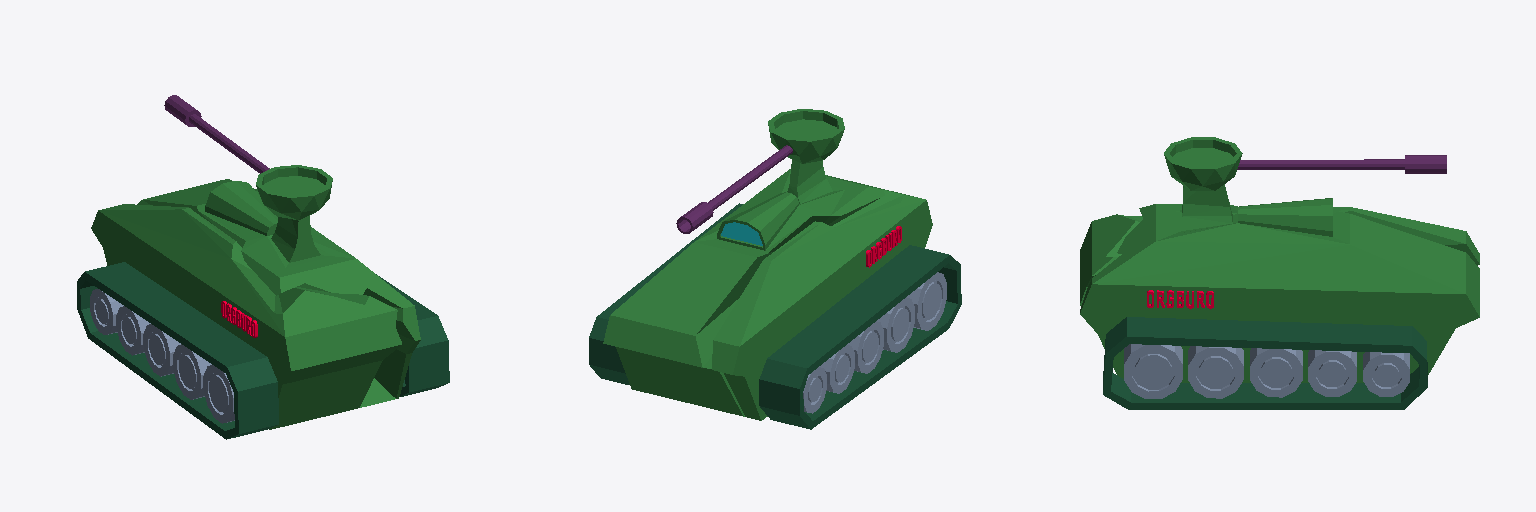
3 renders of one model, left to right at view 1: azimuth 30°, elevation 25°; view 2: azimuth 150°, elevation 25°; view 3: azimuth 270°, elevation 25°, orthographic.
Visible parts, largest first — view 1: tank_01_cracked_Cube.001; view 2: tank_01_cracked_Cube.001; view 3: tank_01_cracked_Cube.001.
Boxes of the visible parts, x1,y1,x2,y2 form: tank_01_cracked_Cube.001: [77, 95, 449, 439]; tank_01_cracked_Cube.001: [589, 109, 961, 429]; tank_01_cracked_Cube.001: [1080, 137, 1479, 409].
Bounding box in the file's own units: 3.25 × 3.02 × 5.34.
2 materials, 1 textured.